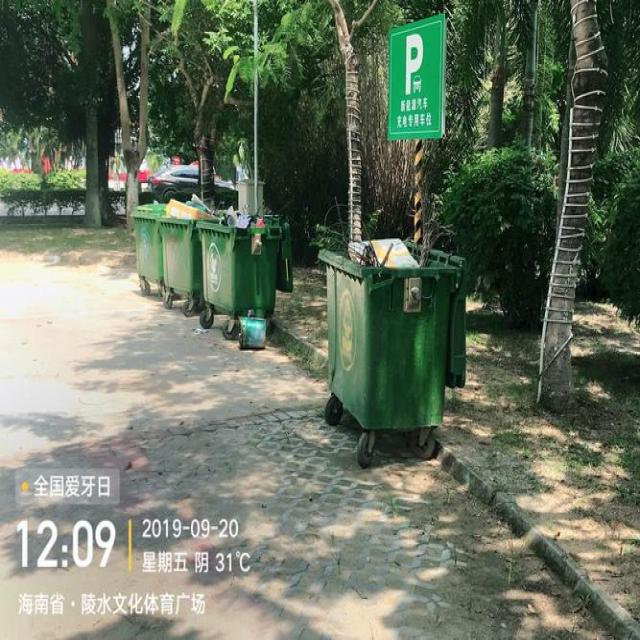garbage: (238, 312, 264, 348)
garbage_bin: (130, 200, 163, 279)
overflow: (318, 235, 466, 428), (195, 205, 291, 315), (156, 193, 215, 294)
